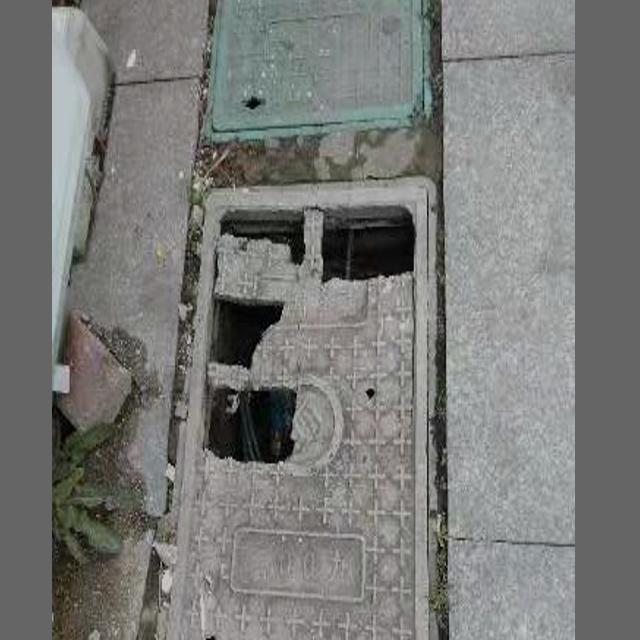broke: (150, 175, 438, 640)
